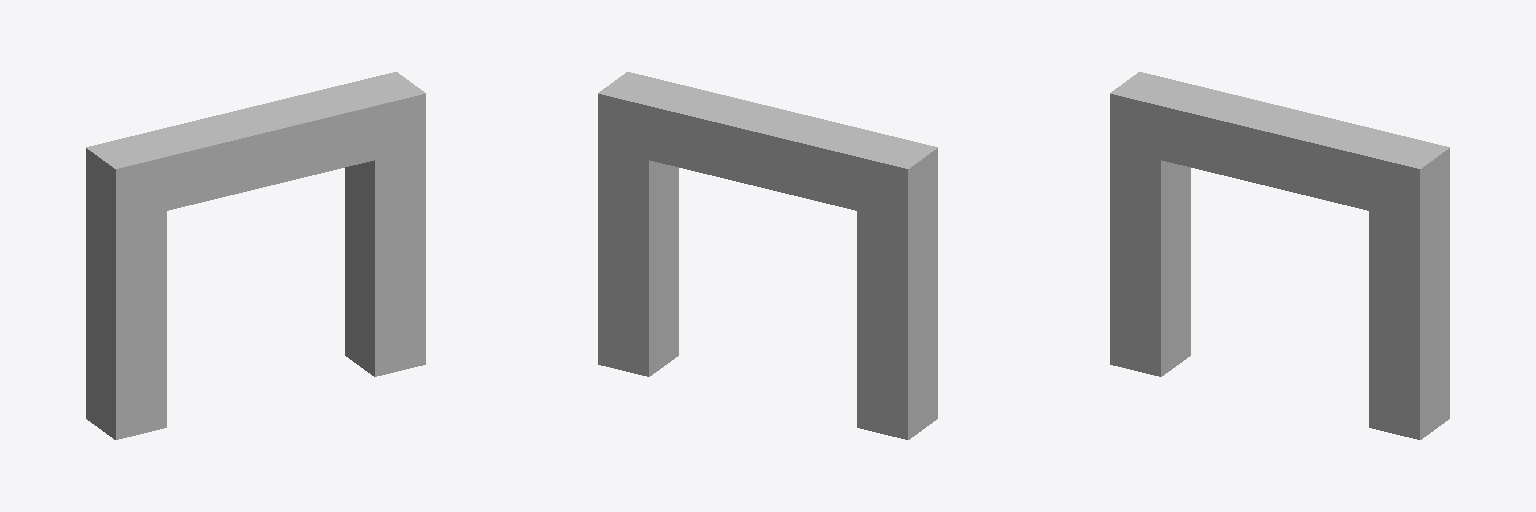
Rendered from portal.obj.
The picture shows the model from 3 angles: view 1: azimuth 30°, elevation 25°; view 2: azimuth 150°, elevation 25°; view 3: azimuth 330°, elevation 25°; orthographic projection.
Visible parts, largest first — view 1: hand; view 2: hand; view 3: hand.
Part boxes in pixels (x1,y1,x2,y2): hand: (86, 72, 425, 439); hand: (598, 72, 937, 439); hand: (1110, 72, 1449, 439).
Bounding box in the file's own units: 0.6 × 0.5 × 0.1.